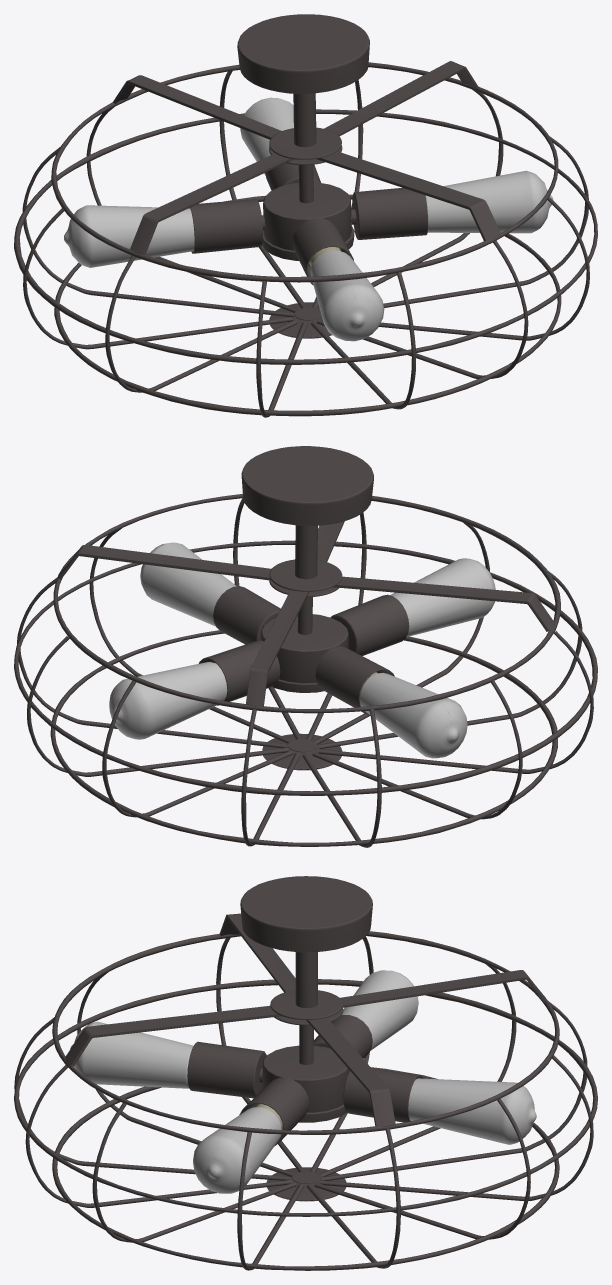
The model's file is abo-B07B4SC2JF.glb.
The picture shows the model from 3 angles, top to bottom: view 1: azimuth 30°, elevation 25°; view 2: azimuth 150°, elevation 25°; view 3: azimuth 270°, elevation 25°; orthographic projection.
Size of the model in its own units: 0.582 by 0.311 by 0.582.
Materials: 1 (1 with a texture image).
